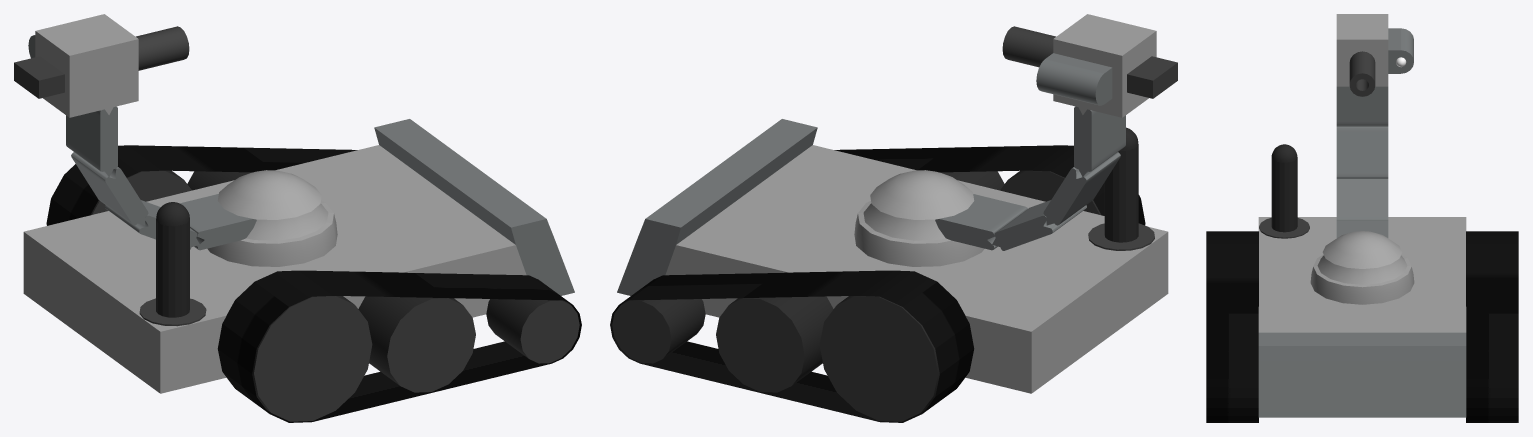
Rendered from Robot_Type1.fbx.
3 renders of one model, left to right at view 1: azimuth 30°, elevation 25°; view 2: azimuth 150°, elevation 25°; view 3: azimuth 270°, elevation 25°, orthographic. The views are drawn at different scales.
Parts seen in each view (by area): view 1: Robot_Type1; view 2: Robot_Type1; view 3: Robot_Type1.
Part boxes in pixels (x1=…): Robot_Type1: x1=14, y1=14, x2=581, y2=422; Robot_Type1: x1=610, y1=14, x2=1177, y2=422; Robot_Type1: x1=1206, y1=14, x2=1518, y2=422.
Bounding box in the file's own units: 8.11 × 5.51 × 6.01.
